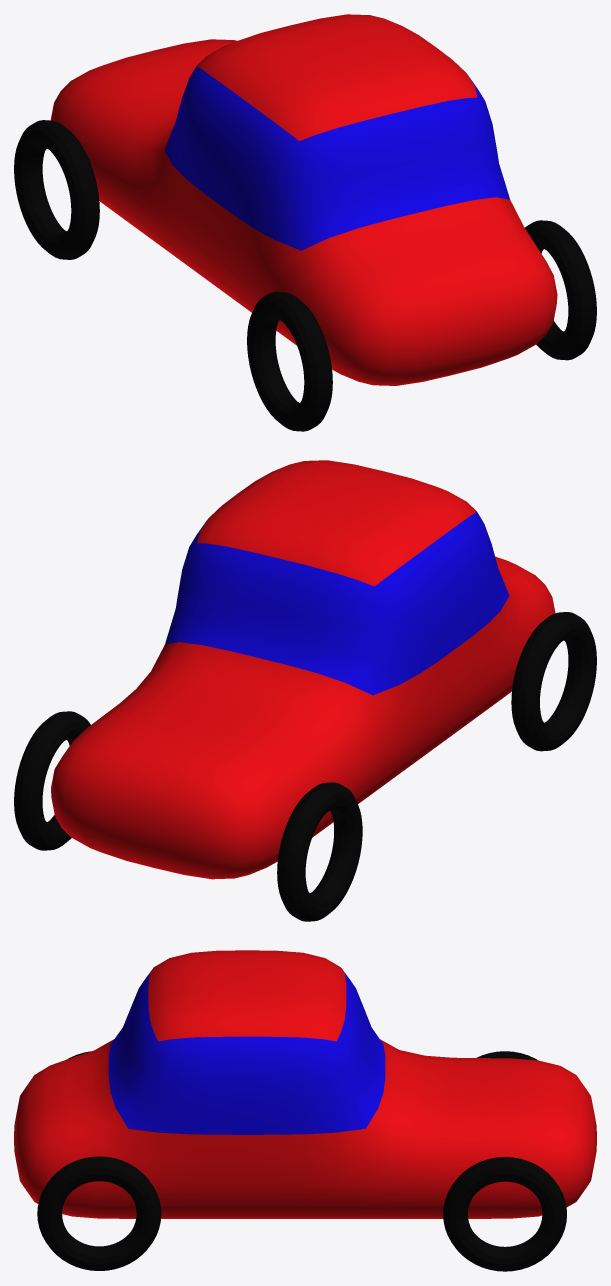
The model's file is car.glb.
The picture shows the model from 3 angles, top to bottom: view 1: azimuth 30°, elevation 25°; view 2: azimuth 150°, elevation 25°; view 3: azimuth 270°, elevation 25°; orthographic projection. The views are drawn at different scales.
Parts seen in each view (by area): view 1: car, tire.001, tire.003, tire; view 2: car, tire.001, tire.003, tire.002; view 3: car, tire, tire.002.
Boxes of the visible parts, box(x1,y1,x2,y2) form: car: box(50, 14, 557, 385); tire.001: box(247, 291, 332, 431); tire.003: box(14, 120, 99, 259); tire: box(525, 220, 596, 360); car: box(51, 460, 555, 879); tire.001: box(511, 612, 596, 751); tire.003: box(277, 782, 362, 921); tire.002: box(14, 711, 90, 850); car: box(14, 950, 596, 1218); tire: box(37, 1156, 161, 1270); tire.002: box(443, 1157, 566, 1271).
Size of the model in its own units: 2.44 by 2.26 by 4.91.
